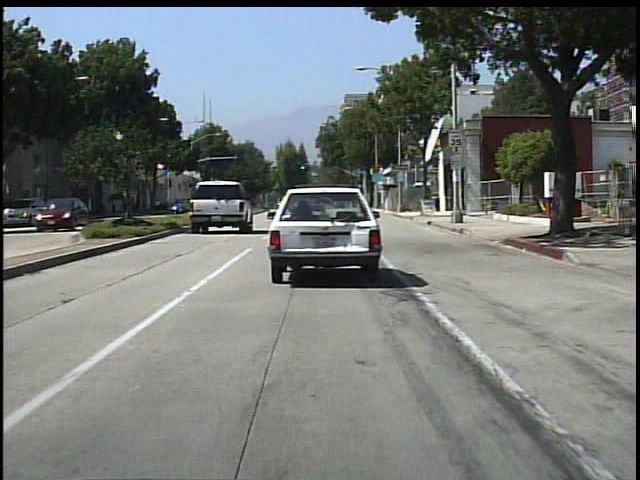person: (109, 196, 121, 219)
